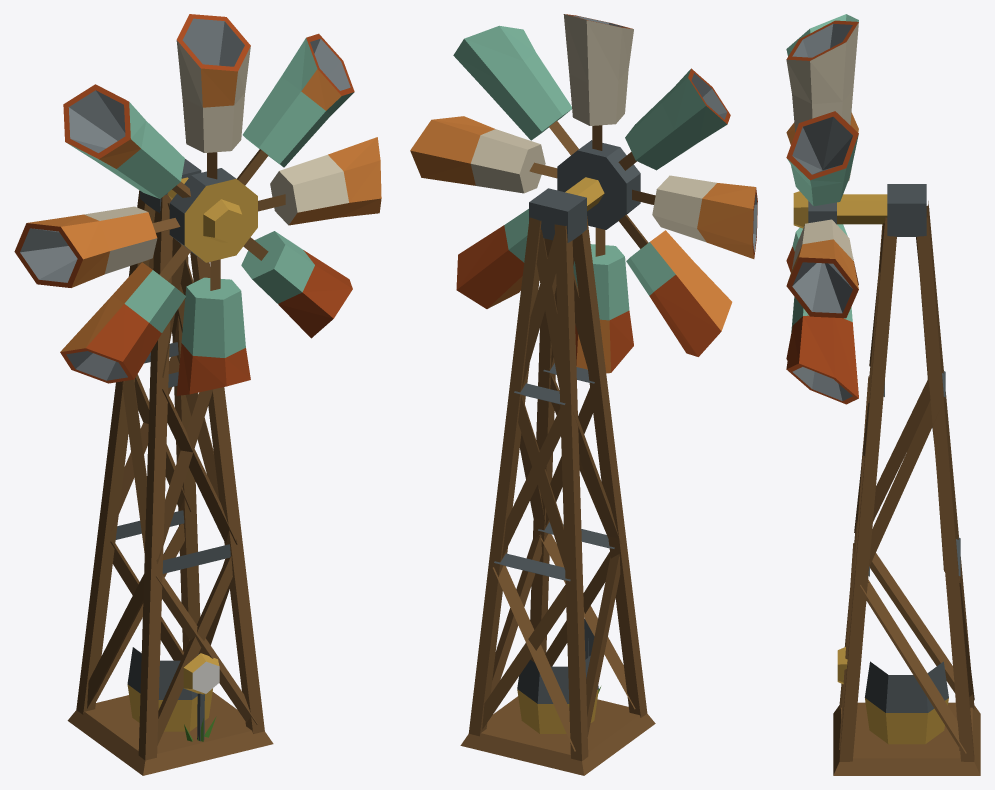
Rendered from oil-drum-wind-spinner-7c1a9d.glb.
3 renders of one model, left to right at view 1: azimuth 30°, elevation 25°; view 2: azimuth 150°, elevation 25°; view 3: azimuth 270°, elevation 25°, orthographic. The views are drawn at different scales.
Visible parts, largest first — view 1: rotor-mesh, mast; view 2: mast, rotor-mesh; view 3: mast, rotor-mesh.
Part boxes in pixels (x1,y1,x2,y2): rotor-mesh: (14, 14, 381, 395); mast: (67, 159, 273, 775); mast: (460, 177, 655, 775); rotor-mesh: (410, 14, 757, 373); mast: (833, 184, 980, 775); rotor-mesh: (786, 14, 858, 404).
Bounding box in the file's own units: 3.1 × 6.04 × 1.48.
